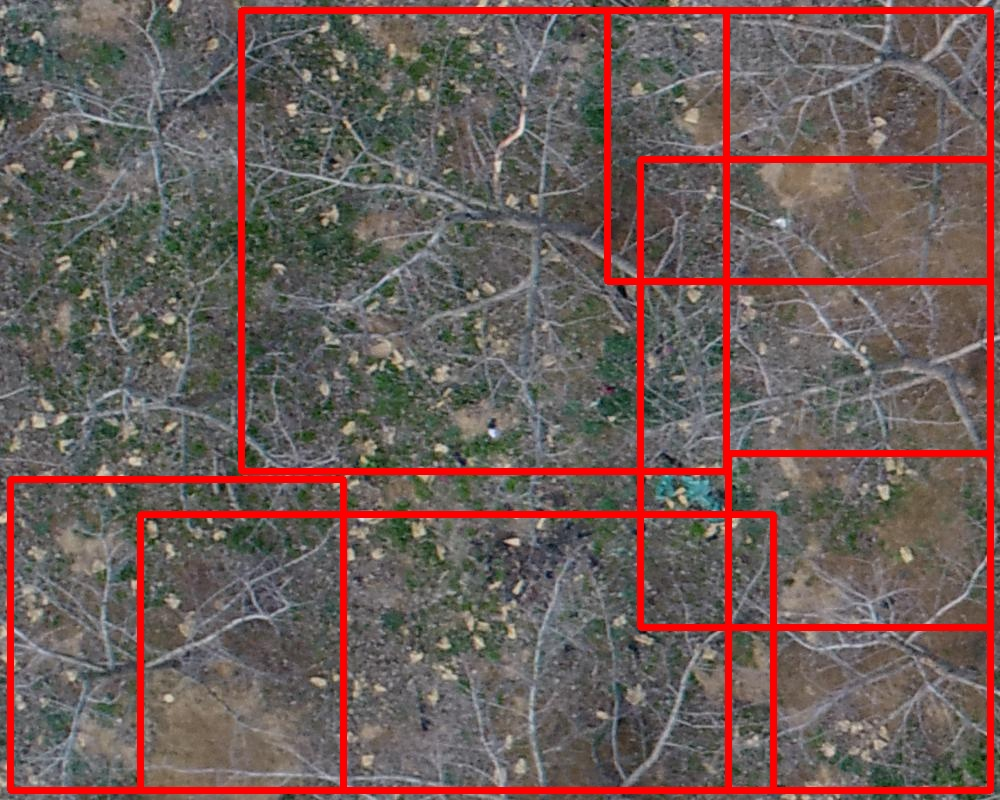apple: (241, 10, 726, 471), (140, 514, 773, 790), (640, 159, 990, 627), (607, 10, 990, 281), (10, 479, 343, 790), (728, 453, 990, 790)
